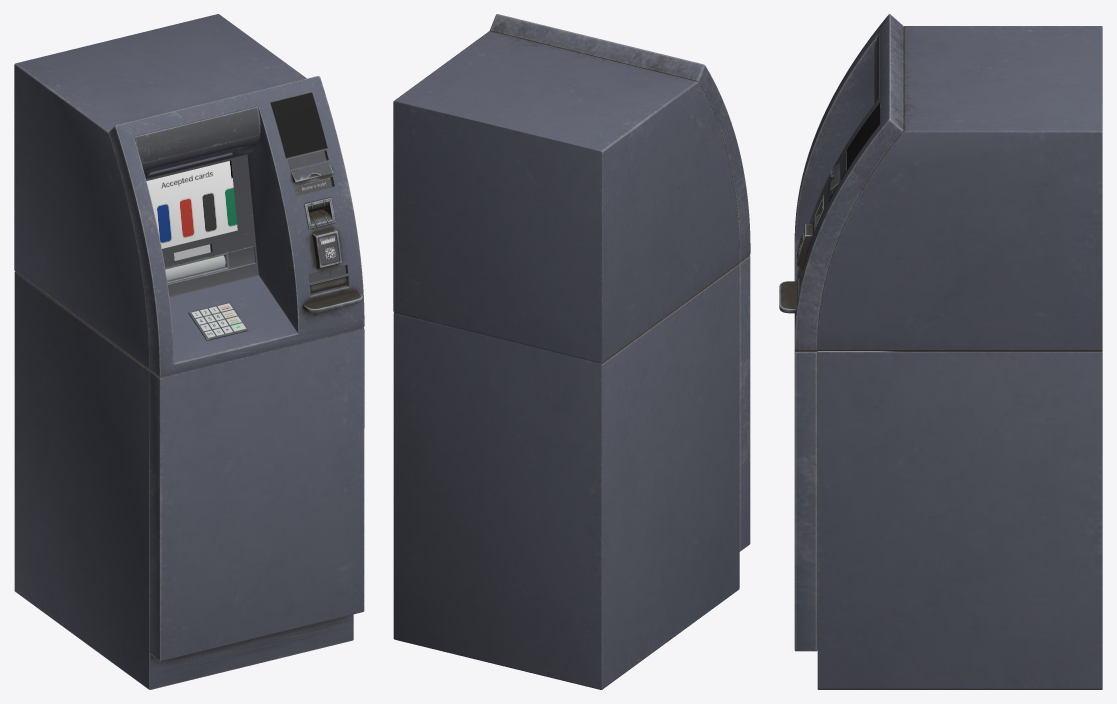
File: atm.glb
3 renders of one model, left to right at view 1: azimuth 30°, elevation 25°; view 2: azimuth 150°, elevation 25°; view 3: azimuth 270°, elevation 25°, orthographic. The views are drawn at different scales.
Parts seen in each view (by area): view 1: ATM_w; view 2: ATM_w; view 3: ATM_w.
Boxes of the visible parts, <box> form: ATM_w: <box>14,14,364,689</box>; ATM_w: <box>393,14,750,689</box>; ATM_w: <box>779,14,1102,689</box>.
Bounding box in the file's own units: 0.6953 × 1.75 × 0.8975.
1 material, 1 textured.
